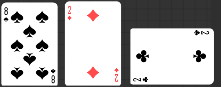2C: (132, 75, 149, 83)
2D: (66, 4, 72, 21)
AC: (192, 29, 210, 36)
